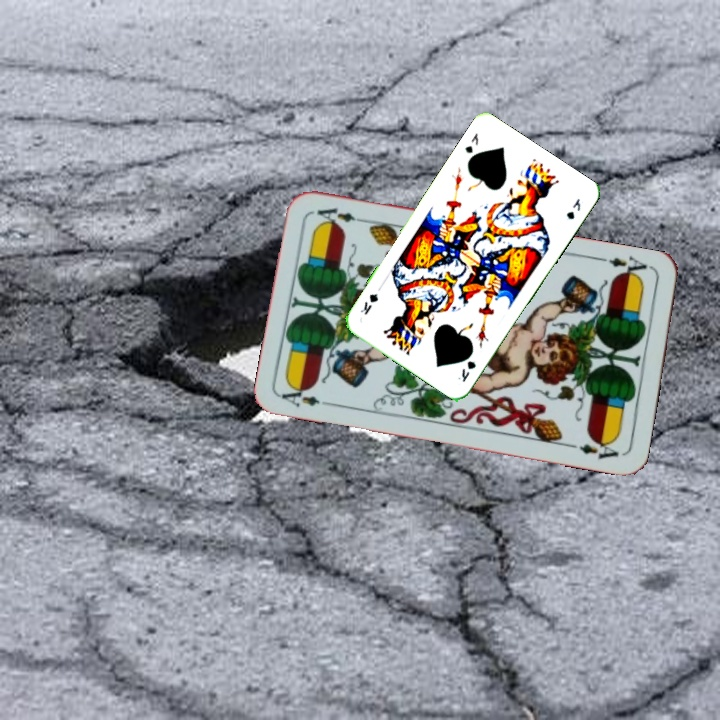EA: (596, 252, 655, 282), (277, 381, 336, 410)
GK: (454, 357, 479, 384), (461, 129, 481, 156)
